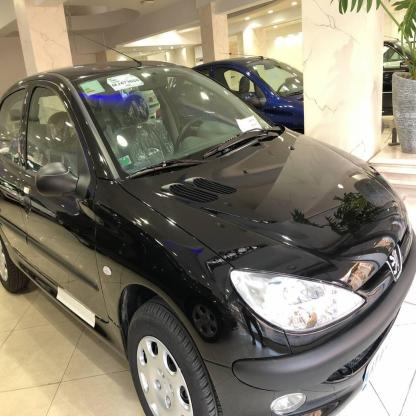Car: (0, 52, 403, 416), (197, 28, 394, 170)
